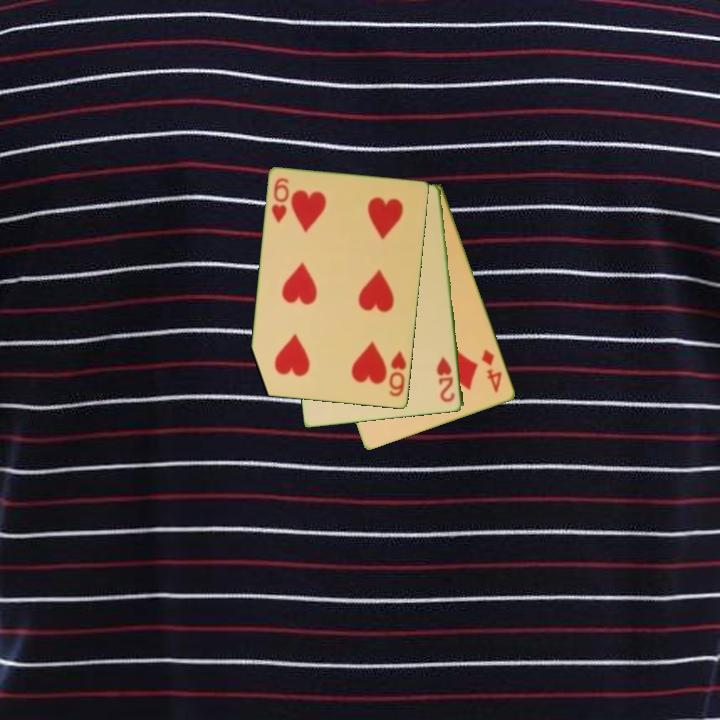2h: (434, 353, 458, 405)
4d: (478, 346, 505, 396)
6h: (386, 348, 410, 400), (268, 175, 292, 226)
